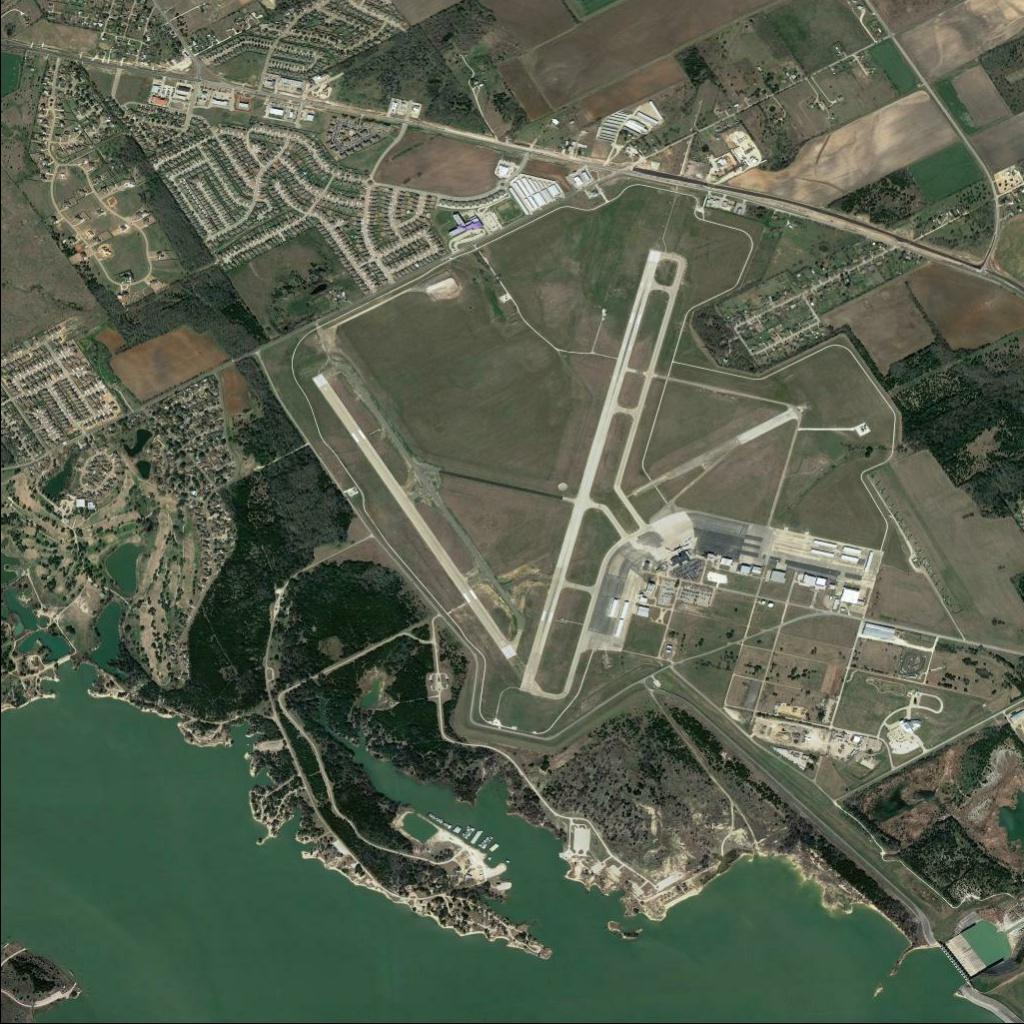harbor: (477, 834, 493, 852), (460, 825, 475, 842), (470, 829, 483, 846)
